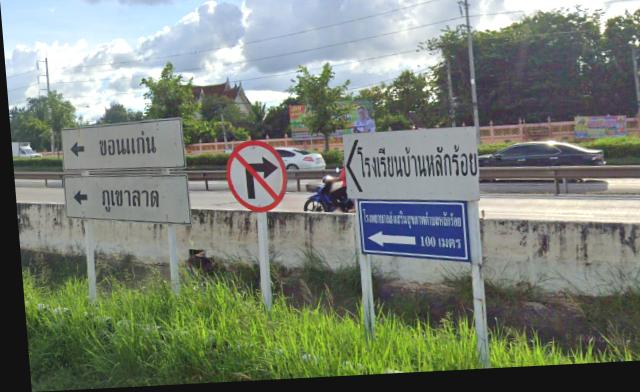not_turn_right: (218, 141, 290, 223)
